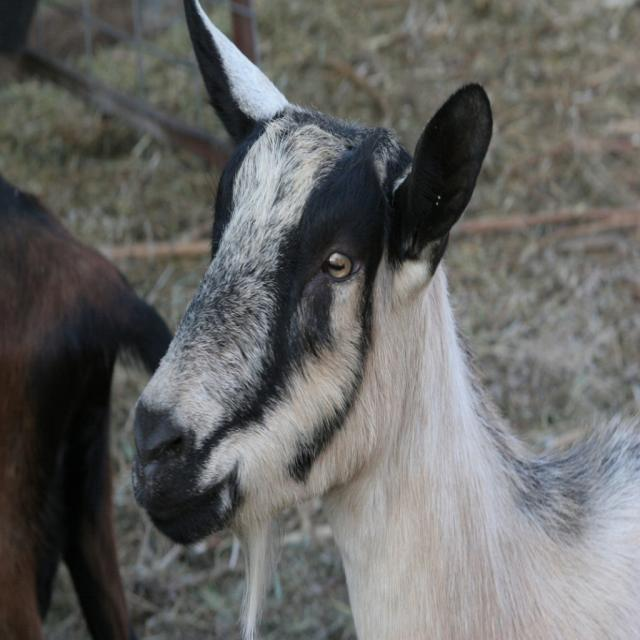Goat: (134, 1, 640, 640), (0, 182, 177, 639)
